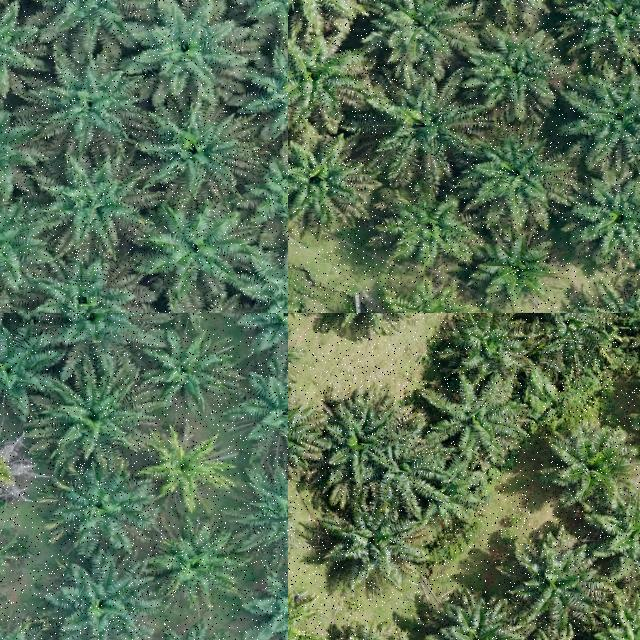Ganoderma: (157, 438, 219, 493), (0, 445, 28, 501)
